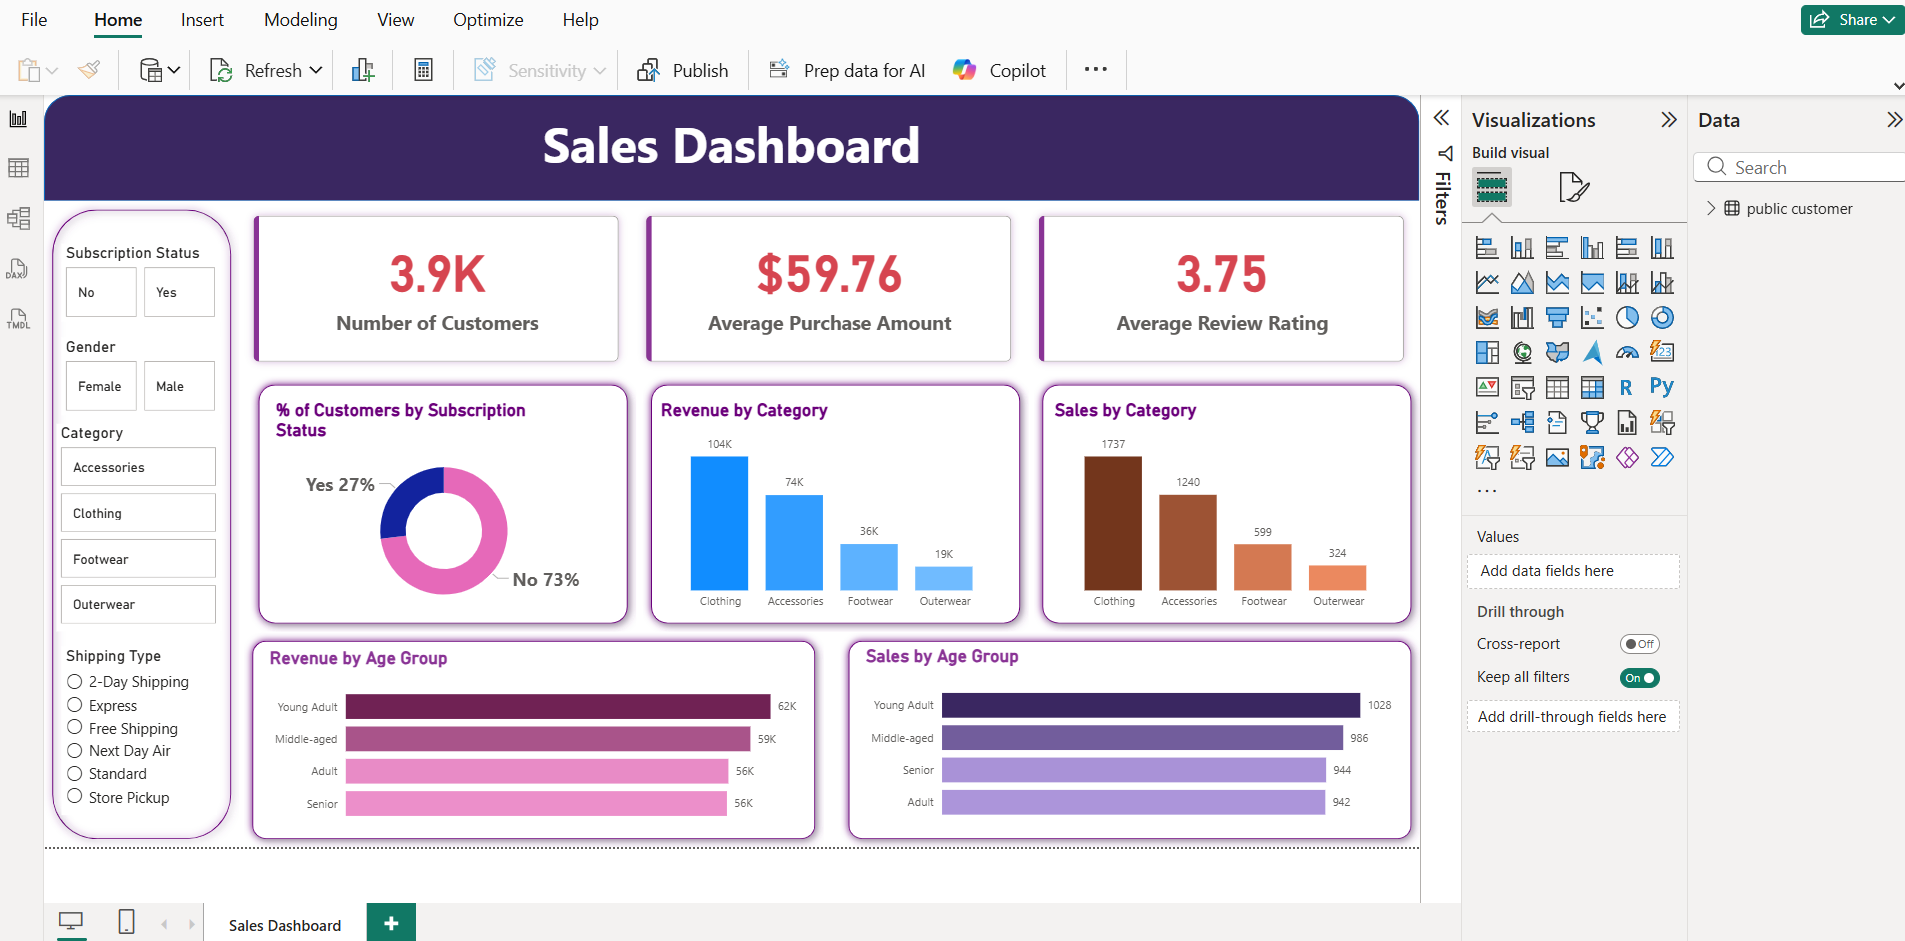

The dashboard page shown, as its layout file describes it:
{"tool":"powerbi","page":{"name":"Sales Dashboard","canvas":[1500,820],"ordinal":0},"visuals":[{"type":"cardVisual","fields":{"Data":["public customer.Number of Customers","public customer.Average Purchase Amount","public customer.Average Review Rating"]},"box":[212.9,115.3,1286.5,191.6],"z":2000},{"type":"shape","box":[218.3,585.6,631.7,234.2],"z":2500,"group":"g1"},{"type":"shape","box":[0,0,1499.4,115.3],"z":3000},{"type":"textbox","box":[0,12.4,1499.4,102.9],"z":4000},{"type":"shape","box":[225.4,307,420.5,278.6],"z":5000},{"type":"donutChart","title":"% of Customers by Subscription Status","fields":{"Category":["public customer.subscription_status"],"Y":["CountNonNull(public customer.customer_id)"]},"box":[248.4,331.8,376.2,237.8],"z":6000},{"type":"shape","box":[1078.9,307,420.5,278.6],"z":7000},{"type":"shape","box":[652.1,307,420.5,278.6],"z":8000},{"type":"clusteredColumnChart","title":"Revenue by Category","fields":{"Y":["Sum(public customer.purchase_amount)"],"Category":["public customer.category"]},"box":[667.2,331.8,385.1,237.8],"z":9000},{"type":"clusteredColumnChart","title":"Sales by Category","fields":{"Y":["CountNonNull(public customer.customer_id)"],"Category":["public customer.category"]},"box":[1096.6,331.8,385.1,237.8],"z":10000},{"type":"shape","box":[0,115.9,213,704.3],"z":11000},{"type":"advancedSlicerVisual","fields":{"Values":["public customer.subscription_status"]},"box":[19.5,161.5,173.9,85.2],"z":12000},{"type":"advancedSlicerVisual","fields":{"Values":["public customer.gender"]},"box":[19.5,264.4,173.9,85.2],"z":13000},{"type":"advancedSlicerVisual","fields":{"Values":["public customer.category"]},"box":[13.6,358.4,179.9,226.2],"z":14000},{"type":"listSlicer","fields":{"Values":["public customer.shipping_type"]},"box":[18.8,601.4,169.6,184.1],"z":15000},{"type":"shape","box":[867.7,585.6,631.7,234.2],"z":16000},{"type":"clusteredBarChart","title":"Sales by Age Group","fields":{"Y":["CountNonNull(public customer.customer_id)"],"Category":["public customer.age_group"]},"box":[890.8,601.5,585.6,204.1],"z":17000},{"type":"clusteredBarChart","title":"Revenue by Age Group","fields":{"Y":["Sum(public customer.purchase_amount)"],"Category":["public customer.age_group"]},"box":[241.4,601.6,585.6,204.1],"z":17500,"group":"g1"},{"type":"group","id":"g1","title":"Group 1","box":[218.3,585.6,631.7,234.2],"z":17501}]}

Visuals, with their boxes on the page's 1500x820 design canvas (x1, y1, x2, y2). These are canvas units, not pixel positions in the 1905x941 screenshot, which may show the page scaled, cropped or inside an application window:
cardVisual - public customer.Number of Customers x public customer.Average Purchase Amount: <region>213, 115, 1499, 307</region>
shape: <region>218, 586, 850, 820</region>
shape: <region>0, 0, 1499, 115</region>
textbox: <region>0, 12, 1499, 115</region>
shape: <region>225, 307, 646, 586</region>
"% of Customers by Subscription Status" donutChart: <region>248, 332, 625, 570</region>
shape: <region>1079, 307, 1499, 586</region>
shape: <region>652, 307, 1073, 586</region>
"Revenue by Category" clusteredColumnChart: <region>667, 332, 1052, 570</region>
"Sales by Category" clusteredColumnChart: <region>1097, 332, 1482, 570</region>
shape: <region>0, 116, 213, 820</region>
advancedSlicerVisual - public customer.subscription_status: <region>20, 162, 193, 247</region>
advancedSlicerVisual - public customer.gender: <region>20, 264, 193, 350</region>
advancedSlicerVisual - public customer.category: <region>14, 358, 194, 585</region>
listSlicer - public customer.shipping_type: <region>19, 601, 188, 786</region>
shape: <region>868, 586, 1499, 820</region>
"Sales by Age Group" clusteredBarChart: <region>891, 602, 1476, 806</region>
"Revenue by Age Group" clusteredBarChart: <region>241, 602, 827, 806</region>
"Group 1" group: <region>218, 586, 850, 820</region>
